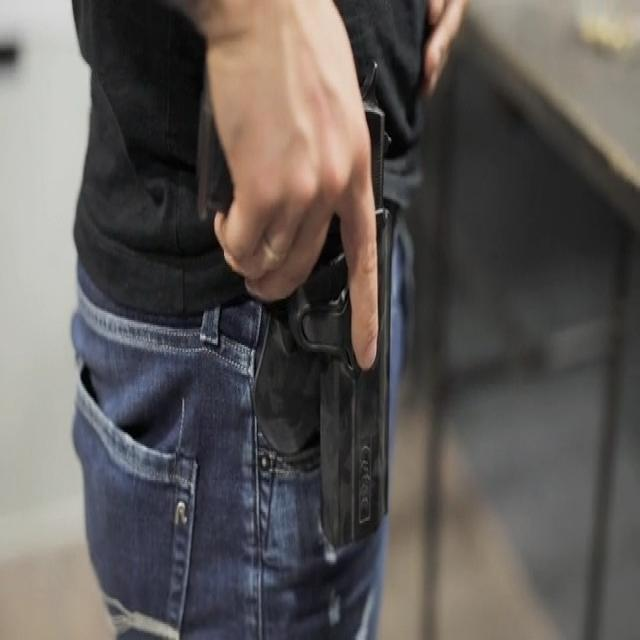Gun_Holder: (193, 50, 436, 636)
